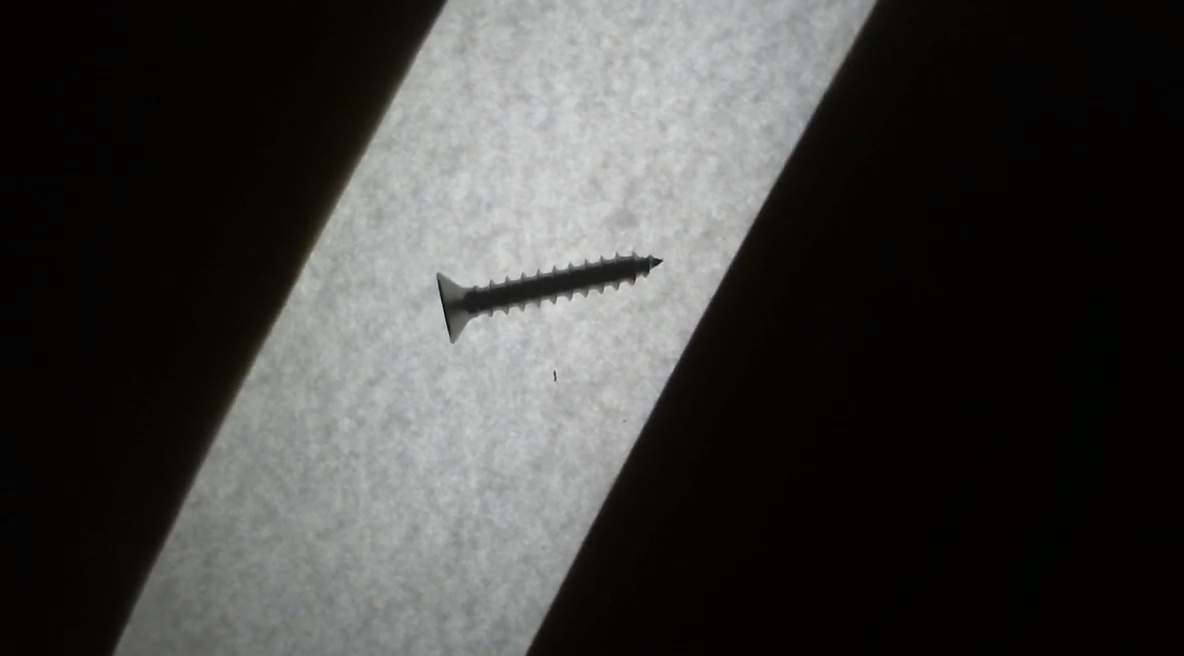S001: (421, 219, 675, 364)
